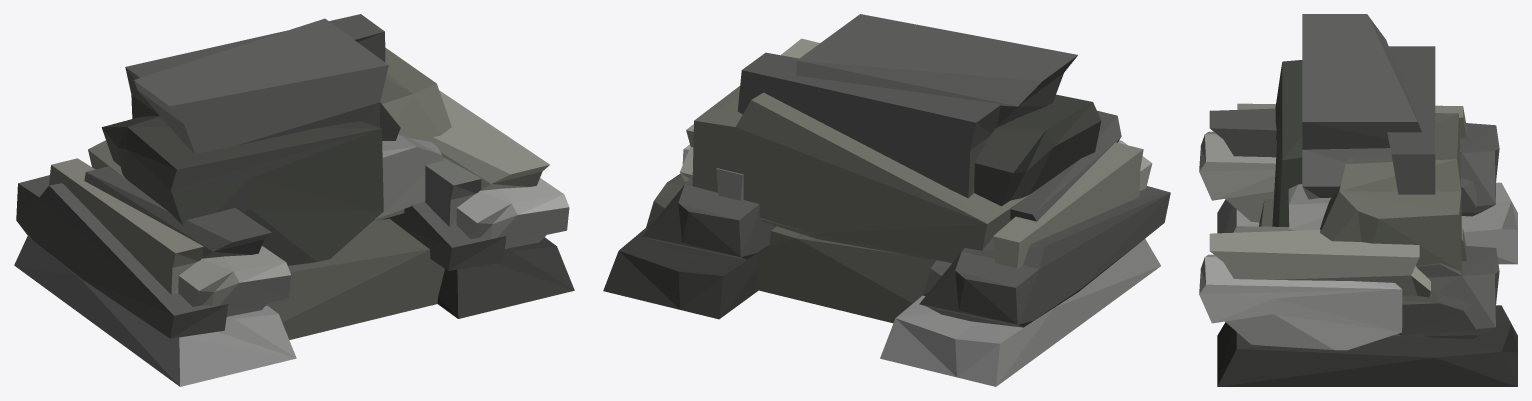
Rendered from DD_Rock05.fbx.
The picture shows the model from 3 angles, left to right: view 1: azimuth 30°, elevation 25°; view 2: azimuth 150°, elevation 25°; view 3: azimuth 270°, elevation 25°; orthographic projection. The views are drawn at different scales.
Parts seen in each view (by area): view 1: DD_Rock05; view 2: DD_Rock05; view 3: DD_Rock05.
Boxes of the visible parts, left/top/right/bottom form: DD_Rock05: left=14, top=14, right=574, bottom=386; DD_Rock05: left=603, top=14, right=1170, bottom=386; DD_Rock05: left=1199, top=14, right=1517, bottom=386.
Bounding box in the file's own units: 152 × 85.18 × 115.
1 material, 1 textured.
